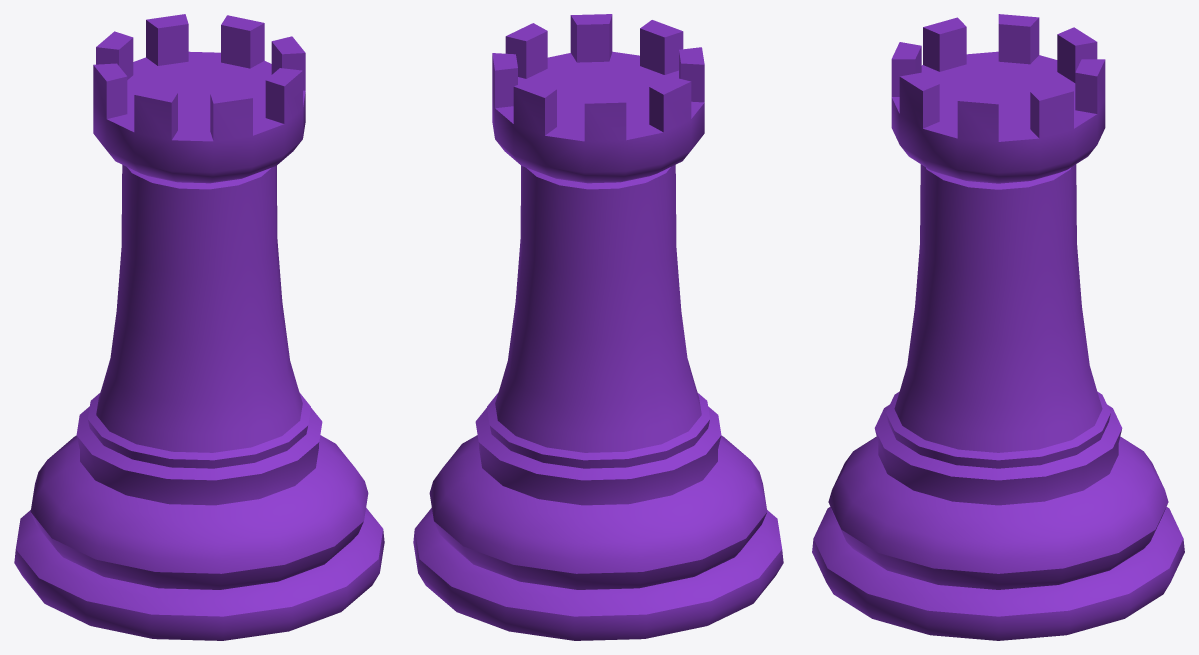
File: rook.obj
3 views of the same model, side by side, from view 1: azimuth 30°, elevation 25°; view 2: azimuth 150°, elevation 25°; view 3: azimuth 270°, elevation 25° (orthographic).
Visible parts, largest first — view 1: ROOK; view 2: ROOK; view 3: ROOK.
Boxes of the visible parts, x1,y1,x2,y2 form: ROOK: [14, 14, 384, 640]; ROOK: [413, 14, 783, 640]; ROOK: [812, 14, 1184, 640].
Size of the model in its own units: 0.6049 by 0.9062 by 0.6049.
